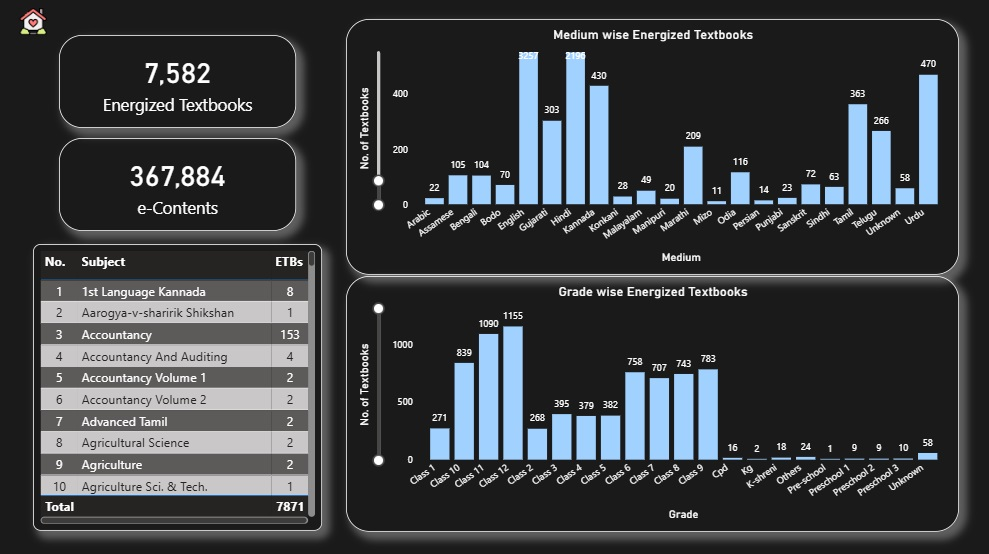

The page's visual inventory and layout, read from the dashboard file:
{"tool":"powerbi","page":{"name":"Content Metrics","canvas":[1280,720],"ordinal":5},"visuals":[{"type":"card","fields":{"Values":["Sum(summary_contentmetrics.Energized Textbooks)"]},"box":[78.7,49,305.8,120],"z":0},{"type":"card","fields":{"Values":["Sum(summary_contentmetrics.e-Contents)"]},"box":[78.7,181.9,305.8,120],"z":1000},{"type":"tableEx","fields":{"Values":["Sum(subject_wise_etb.S.No.)","subject_wise_etb.Subject","Sum(subject_wise_etb.ETBs)"]},"box":[45.2,318.7,372.9,370.3],"z":2000},{"type":"image","box":[21.9,14.2,46.5,34.8],"z":3000},{"type":"columnChart","title":"Medium wise Energized Textbooks","fields":{"Category":["medium_wise_etb.Column1"],"Y":["Sum(medium_wise_etb.Column2)"]},"box":[449.3,28.3,790.9,330],"z":4000},{"type":"columnChart","title":"Grade wise Energized Textbooks","fields":{"Category":["grade_wise_etb.Grade Name"],"Y":["Sum(grade_wise_etb.Grade)"]},"box":[449.3,360,790.9,330],"z":5000}]}

Visuals, with their boxes in screenshot pixels (x1, y1, x2, y2), scaled from the page's 1280x720 canvas onto the 989x554 screenshot:
card - Sum(summary_contentmetrics.Energized Textbooks): detection(61, 38, 297, 130)
card - Sum(summary_contentmetrics.e-Contents): detection(61, 140, 297, 232)
tableEx - Sum(subject_wise_etb.S.No.) x subject_wise_etb.Subject: detection(35, 245, 323, 530)
image: detection(17, 11, 53, 38)
"Medium wise Energized Textbooks" columnChart: detection(347, 22, 958, 276)
"Grade wise Energized Textbooks" columnChart: detection(347, 277, 958, 531)
